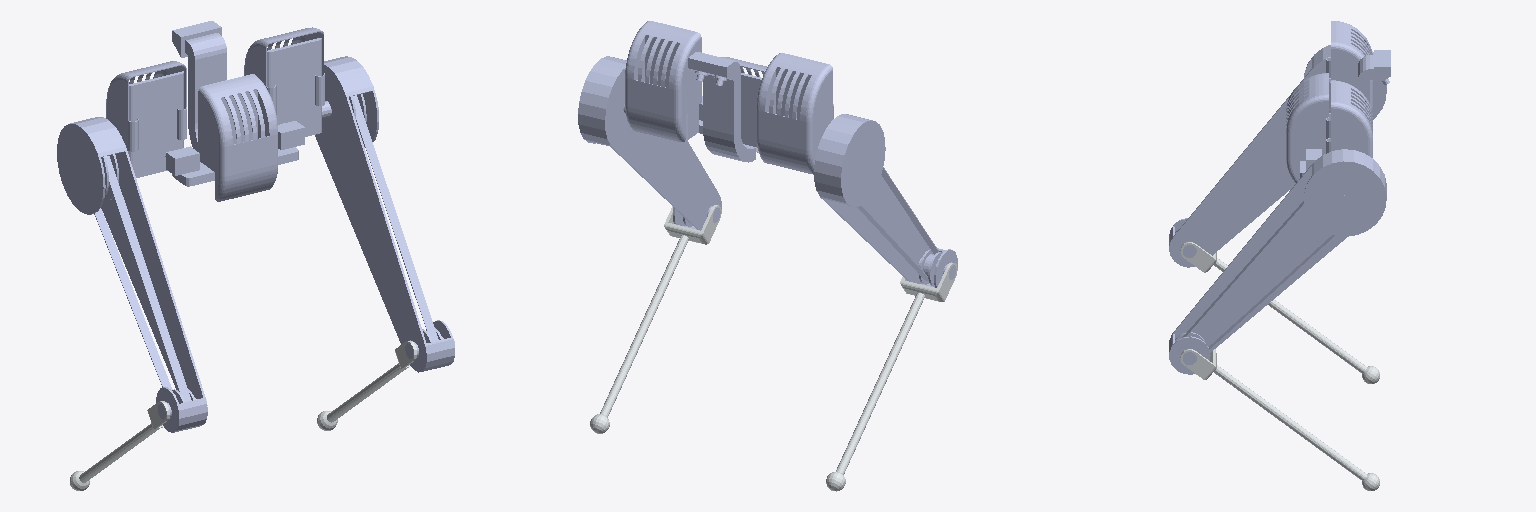
robot.urdf — ball_bipedal:
<?xml version="1.0" encoding="utf-8"?>
<!-- This URDF was automatically created by SolidWorks to URDF Exporter! Originally created by [author] ([email redacted]) 
     Commit Version: 1.6.0-1-g15f4949  Build Version: 1.6.7594.29634
     For more information, please see http://wiki.ros.org/sw_urdf_exporter -->
<robot
  name="ball_bipedal">
  <link
    name="base_link">
    <inertial>
      <origin
        xyz="0.29745 0.9631 0.99051"
        rpy="0 0 0" />
      <mass
        value="5.2996" />
      <inertia
        ixx="0.022254"
        ixy="9.0993E-07"
        ixz="4.9765E-06"
        iyy="0.017555"
        iyz="0.0019329"
        izz="0.033432" />
    </inertial>
    <visual>
      <origin
        xyz="0 0 0"
        rpy="0 0 0" />
      <geometry>
        <mesh
          filename="package://ball_bipedal/meshes/base_link.STL" />
      </geometry>
      <material
        name="">
        <color
          rgba="0.79216 0.81961 0.93333 1" />
      </material>
    </visual>
    <collision>
      <origin
        xyz="0 0 0"
        rpy="0 0 0" />
      <geometry>
        <mesh
          filename="package://ball_bipedal/meshes/base_link.STL" />
      </geometry>
    </collision>
  </link>
  <link
    name="fl_thigh">
    <inertial>
      <origin
        xyz="0.11721 -0.1305 -0.041995"
        rpy="0 0 0" />
      <mass
        value="1.488" />
      <inertia
        ixx="0.026867"
        ixy="0.020986"
        ixz="0.00074321"
        iyy="0.022351"
        iyz="-0.00082748"
        izz="0.047654" />
    </inertial>
    <visual>
      <origin
        xyz="0 0 0"
        rpy="0 0 0" />
      <geometry>
        <mesh
          filename="package://ball_bipedal/meshes/fl_thigh.STL" />
      </geometry>
      <material
        name="">
        <color
          rgba="0.79216 0.81961 0.93333 1" />
      </material>
    </visual>
    <collision>
      <origin
        xyz="0 0 0"
        rpy="0 0 0" />
      <geometry>
        <mesh
          filename="package://ball_bipedal/meshes/fl_thigh.STL" />
      </geometry>
    </collision>
  </link>
  <joint
    name="flhip"
    type="revolute">
    <origin
      xyz="-0.046908 -0.96824 0.93625"
      rpy="1.5708 0 -1.5708" />
    <parent
      link="base_link" />
    <child
      link="fl_thigh" />
    <axis
      xyz="0 0 1" />
    <limit
      lower="-0.78"
      upper="0.78"
      effort="0"
      velocity="0" />
  </joint>
  <link
    name="fl_calf">
    <inertial>
      <origin
        xyz="-0.20323 -0.16374 -0.035"
        rpy="0 0 0" />
      <mass
        value="0.81601" />
      <inertia
        ixx="0.013167"
        ixy="-0.015798"
        ixz="1.158E-09"
        iyy="0.020046"
        iyz="8.7644E-10"
        izz="0.032473" />
    </inertial>
    <visual>
      <origin
        xyz="0 0 0"
        rpy="0 0 0" />
      <geometry>
        <mesh
          filename="package://ball_bipedal/meshes/fl_calf.STL" />
      </geometry>
      <material
        name="">
        <color
          rgba="0.89804 0.91765 0.92941 1" />
      </material>
    </visual>
    <collision>
      <origin
        xyz="0 0 0"
        rpy="0 0 0" />
      <geometry>
        <mesh
          filename="package://ball_bipedal/meshes/fl_calf.STL" />
      </geometry>
    </collision>
  </link>
  <joint
    name="flknee"
    type="revolute">
    <origin
      xyz="0.3742 -0.41662 0"
      rpy="0 0 0" />
    <parent
      link="fl_thigh" />
    <child
      link="fl_calf" />
    <axis
      xyz="0 0 1" />
    <limit
      lower="-0.78"
      upper="0.78"
      effort="0"
      velocity="0" />
  </joint>
  <link
    name="fr_thigh">
    <inertial>
      <origin
        xyz="0.11721 -0.1305 0.041995"
        rpy="0 0 0" />
      <mass
        value="1.488" />
      <inertia
        ixx="0.026867"
        ixy="0.020986"
        ixz="-0.00074321"
        iyy="0.022351"
        iyz="0.00082748"
        izz="0.047654" />
    </inertial>
    <visual>
      <origin
        xyz="0 0 0"
        rpy="0 0 0" />
      <geometry>
        <mesh
          filename="package://ball_bipedal/meshes/fr_thigh.STL" />
      </geometry>
      <material
        name="">
        <color
          rgba="0.79216 0.81961 0.93333 1" />
      </material>
    </visual>
    <collision>
      <origin
        xyz="0 0 0"
        rpy="0 0 0" />
      <geometry>
        <mesh
          filename="package://ball_bipedal/meshes/fr_thigh.STL" />
      </geometry>
    </collision>
  </link>
  <joint
    name="frhip"
    type="revolute">
    <origin
      xyz="0.63309 -0.96824 0.93625"
      rpy="1.5708 0 -1.5708" />
    <parent
      link="base_link" />
    <child
      link="fr_thigh" />
    <axis
      xyz="0 0 -1" />
    <limit
      lower="-0.78"
      upper="0.78"
      effort="0"
      velocity="0" />
  </joint>
  <link
    name="fr_calf">
    <inertial>
      <origin
        xyz="-0.20323 -0.16374 0.035"
        rpy="0 0 0" />
      <mass
        value="0.81601" />
      <inertia
        ixx="0.013167"
        ixy="-0.015798"
        ixz="-1.7705E-11"
        iyy="0.020046"
        iyz="2.2084E-11"
        izz="0.032473" />
    </inertial>
    <visual>
      <origin
        xyz="0 0 0"
        rpy="0 0 0" />
      <geometry>
        <mesh
          filename="package://ball_bipedal/meshes/fr_calf.STL" />
      </geometry>
      <material
        name="">
        <color
          rgba="0.89804 0.91765 0.92941 1" />
      </material>
    </visual>
    <collision>
      <origin
        xyz="0 0 0"
        rpy="0 0 0" />
      <geometry>
        <mesh
          filename="package://ball_bipedal/meshes/fr_calf.STL" />
      </geometry>
    </collision>
  </link>
  <joint
    name="frknee"
    type="revolute">
    <origin
      xyz="0.3742 -0.41662 0"
      rpy="0 0 0" />
    <parent
      link="fr_thigh" />
    <child
      link="fr_calf" />
    <axis
      xyz="0 0 -1" />
    <limit
      lower="-0.78"
      upper="0.78"
      effort="0"
      velocity="0" />
  </joint>
</robot>

--- Render facts (derived) ---
Views: 3 orthographic renders of the robot side by side, from view 1: azimuth 30°, elevation 25°; view 2: azimuth 150°, elevation 25°; view 3: azimuth 270°, elevation 25°.
Robot: ball_bipedal — 5 links, 4 joints (4 revolute); root link base_link; default pose: every joint at zero.
Links seen in each view (by area): view 1: base_link, fl_thigh, fr_thigh, fr_calf, fl_calf; view 2: base_link, fl_thigh, fr_thigh, fr_calf, fl_calf; view 3: fr_thigh, base_link, fl_thigh, fr_calf, fl_calf.
Boxes of the visible links, left/top/right/bottom form: base_link: left=78, top=21, right=331, bottom=201; fl_thigh: left=57, top=117, right=207, bottom=432; fr_thigh: left=315, top=56, right=454, bottom=372; fr_calf: left=317, top=335, right=454, bottom=430; fl_calf: left=70, top=399, right=207, bottom=490; base_link: left=623, top=21, right=865, bottom=174; fl_thigh: left=814, top=114, right=957, bottom=287; fr_thigh: left=578, top=56, right=721, bottom=230; fr_calf: left=590, top=205, right=721, bottom=433; fl_calf: left=826, top=262, right=957, bottom=491; fr_thigh: left=1169, top=149, right=1386, bottom=374; base_link: left=1286, top=21, right=1390, bottom=202; fl_thigh: left=1169, top=45, right=1386, bottom=267; fr_calf: left=1180, top=349, right=1379, bottom=490; fl_calf: left=1180, top=242, right=1379, bottom=383.
Bounding box of the posed robot: 0.71 × 0.5342 × 1.01 m (x, y, z).
5 mesh visuals loaded from 5 distinct referenced files (5 binary STL).